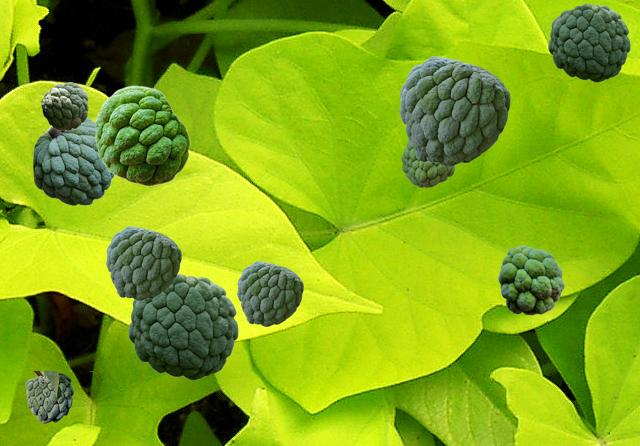atis: (399, 56, 509, 165), (128, 274, 237, 379), (95, 85, 189, 185), (33, 118, 114, 204), (548, 3, 629, 81), (106, 226, 180, 299), (498, 245, 563, 314), (237, 261, 302, 325), (25, 371, 98, 422), (401, 141, 454, 186), (41, 82, 87, 129)
